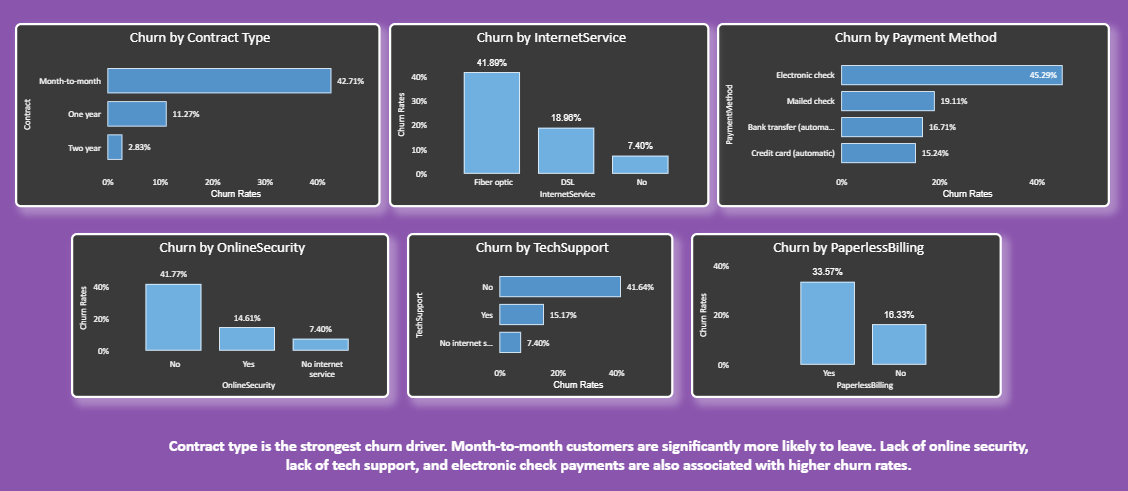

What the dashboard file says about the page in this screenshot:
{"tool":"powerbi","page":{"name":"CHURN DRIVER ANALYSIS","canvas":[2000,1000],"ordinal":1},"visuals":[{"type":"barChart","title":"Churn by Contract Type","fields":{"Category":["Telco-Customer-Churn.Contract"],"Y":["Measure Table.Churn Rates"]},"box":[31.4,38.6,494.3,248.6],"z":0},{"type":"barChart","title":"Churn by Payment Method","fields":{"Category":["Telco-Customer-Churn.PaymentMethod"],"Y":["Measure Table.Churn Rates"]},"box":[980,38.6,531.4,248.6],"z":1000},{"type":"columnChart","title":"Churn by InternetService","fields":{"Category":["Telco-Customer-Churn.InternetService"],"Y":["Measure Table.Churn Rates"]},"box":[537.1,38.6,432.9,248.6],"z":2000},{"type":"clusteredColumnChart","title":"Churn by OnlineSecurity","fields":{"Category":["Telco-Customer-Churn.OnlineSecurity"],"Y":["Measure Table.Churn Rates"]},"box":[107.1,322.9,430,222.9],"z":3000},{"type":"barChart","title":"Churn by TechSupport","fields":{"Category":["Telco-Customer-Churn.TechSupport"],"Y":["Measure Table.Churn Rates"]},"box":[561.4,322.9,360,222.9],"z":4000},{"type":"columnChart","title":"Churn by PaperlessBilling","fields":{"Category":["Telco-Customer-Churn.PaperlessBilling"],"Y":["Measure Table.Churn Rates"]},"box":[944.3,322.9,420,222.9],"z":5000},{"type":"textbox","box":[228.6,591.4,1182.9,84.3],"z":6000}]}

Visuals, with their boxes on the page's 2000x1000 design canvas (x1, y1, x2, y2). These are canvas units, not pixel positions in the 1128x491 screenshot, which may show the page scaled, cropped or inside an application window:
"Churn by Contract Type" barChart: bbox=[31, 39, 526, 287]
"Churn by Payment Method" barChart: bbox=[980, 39, 1511, 287]
"Churn by InternetService" columnChart: bbox=[537, 39, 970, 287]
"Churn by OnlineSecurity" clusteredColumnChart: bbox=[107, 323, 537, 546]
"Churn by TechSupport" barChart: bbox=[561, 323, 921, 546]
"Churn by PaperlessBilling" columnChart: bbox=[944, 323, 1364, 546]
textbox: bbox=[229, 591, 1412, 676]
